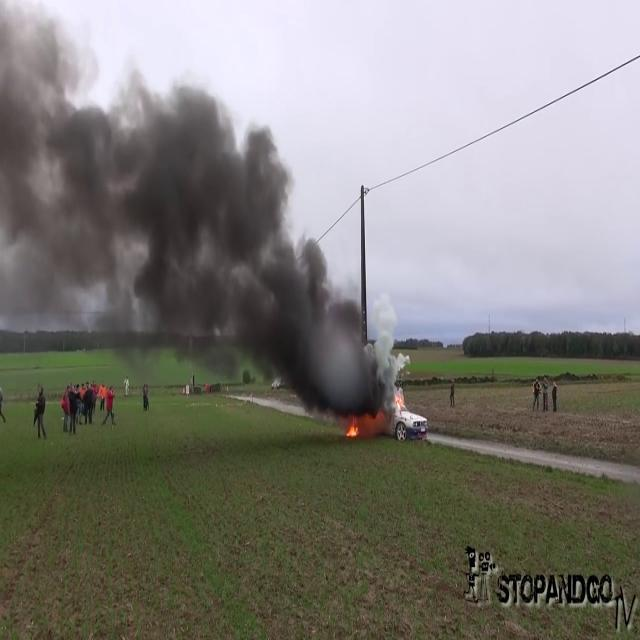Fire: (342, 410, 364, 446)
Smoke: (0, 31, 384, 388)
